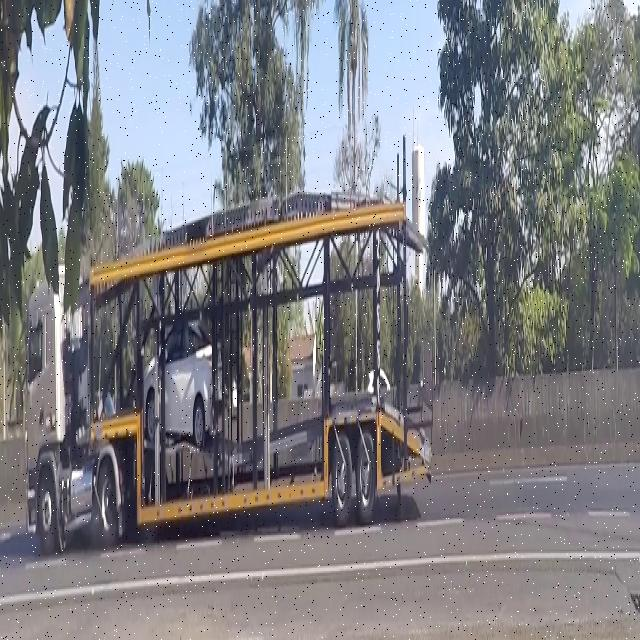-axle: (98, 454, 120, 546), (36, 468, 58, 552), (334, 429, 352, 523), (358, 431, 376, 518)
